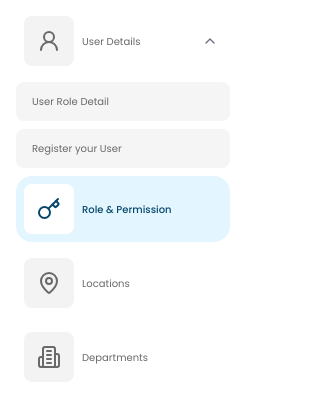
layout/Sidebar/AdminSidebar › clicking the User Details parent toggles expansion without navigating
Expected: the text "User Role Detail" is shown, [16,82,230,121]
Click the text "User Details".
click(111, 41)  # box [82,34,140,48]
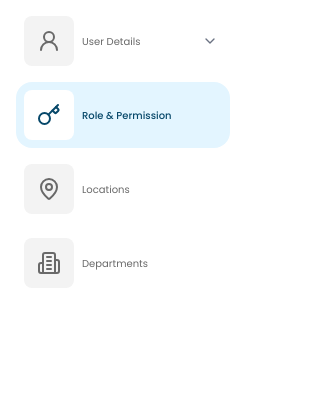
Now the text "User Role Detail" is gone
Now the text "Register your User" is gone
Click the text "User Details".
click(111, 41)  # box [82,34,140,48]
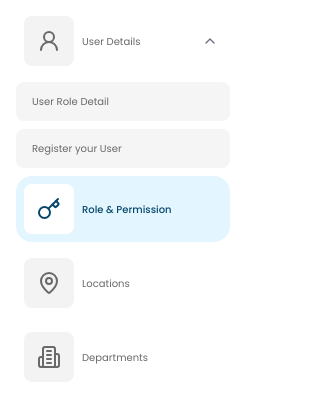
Now the text "User Role Detail" is shown, box [16,82,230,121]
Now the text "Register your User" is shown, box [16,129,230,168]
